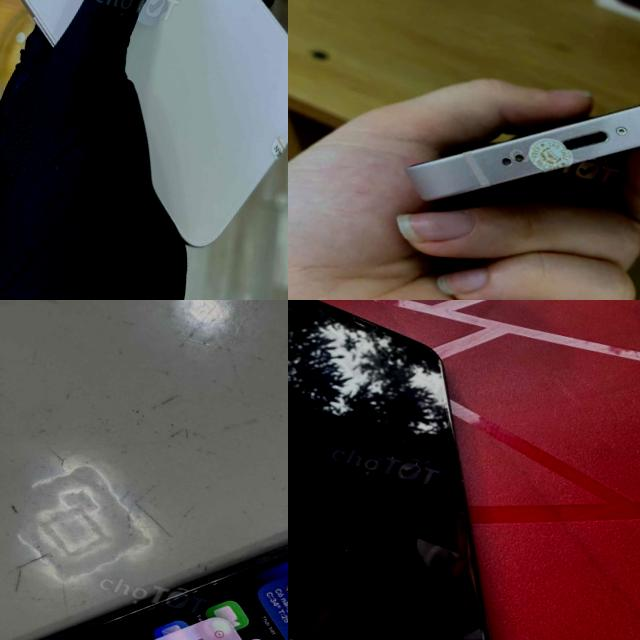gen_12_13: (0, 0, 288, 268), (392, 0, 640, 286)
gen_14: (0, 422, 288, 640)
gen_x_xs: (288, 300, 489, 640)
